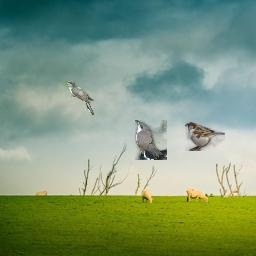Cuckoo: (135, 120, 167, 160), (64, 81, 94, 115)
Sparrow: (185, 121, 225, 151)
